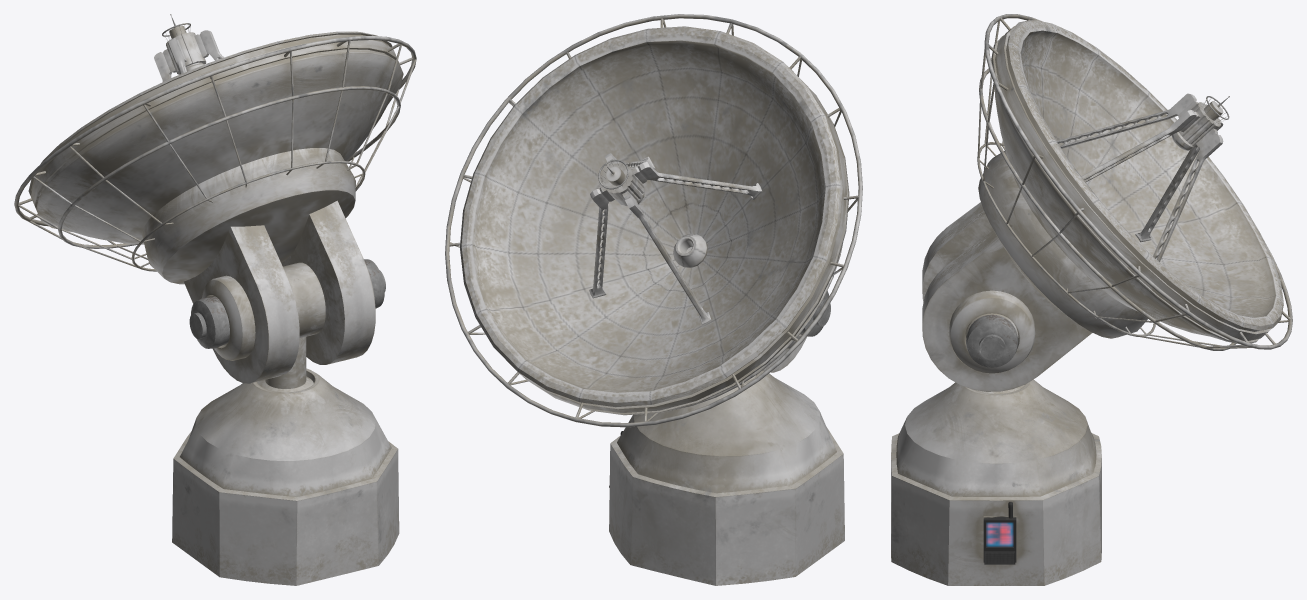
The picture shows the model from 3 angles, left to right: view 1: azimuth 30°, elevation 25°; view 2: azimuth 150°, elevation 25°; view 3: azimuth 270°, elevation 25°; orthographic projection. The views are drawn at different scales.
Parts seen in each view (by area): view 1: Dish, Satelite Base, Dish Rotator base, Metal Rings, Dish Rotator, Antena; view 2: Dish, Satelite Base, Metal Rings, Antena; view 3: Dish, Satelite Base, Dish Rotator base, Metal Rings, Antena, Dish Rotator, Box on base.
Boxes of the visible parts, x1,y1,x2,y2 form: Dish: (28,31,403,284); Satelite Base: (172,337,399,585); Dish Rotator base: (184,200,375,383); Metal Rings: (14,23,416,271); Dish Rotator: (189,259,385,360); Antena: (154,15,223,81); Dish: (460,26,849,415); Satelite Base: (609,371,844,585); Metal Rings: (445,14,862,427); Antena: (589,153,762,324); Dish: (978,20,1283,344); Satelite Base: (891,379,1101,585); Dish Rotator base: (922,202,1092,391); Metal Rings: (977,14,1292,350); Antena: (1056,93,1228,261); Dish Rotator: (949,290,1035,373); Box on base: (983,516,1016,564).
Bounding box in the file's own units: 6.08 × 7.7 × 5.61.
1 material, 1 textured.
